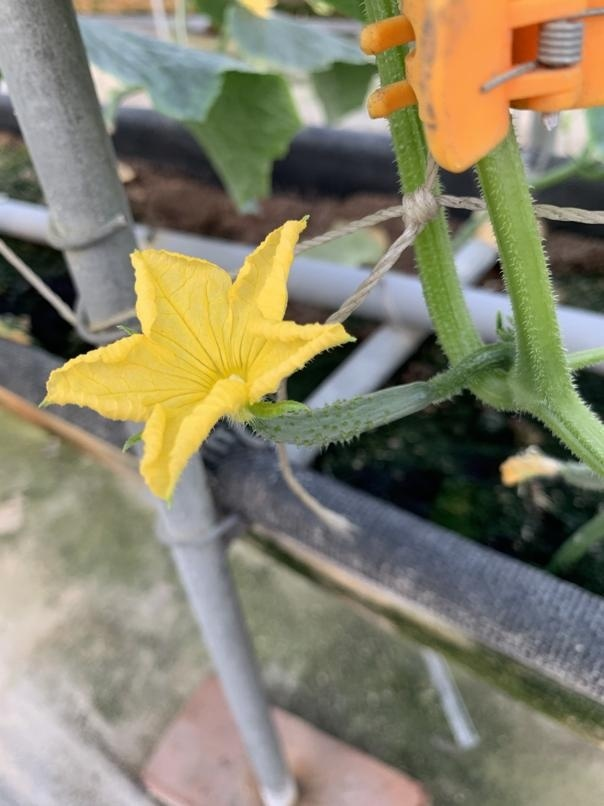flowering: (50, 238, 492, 490)
